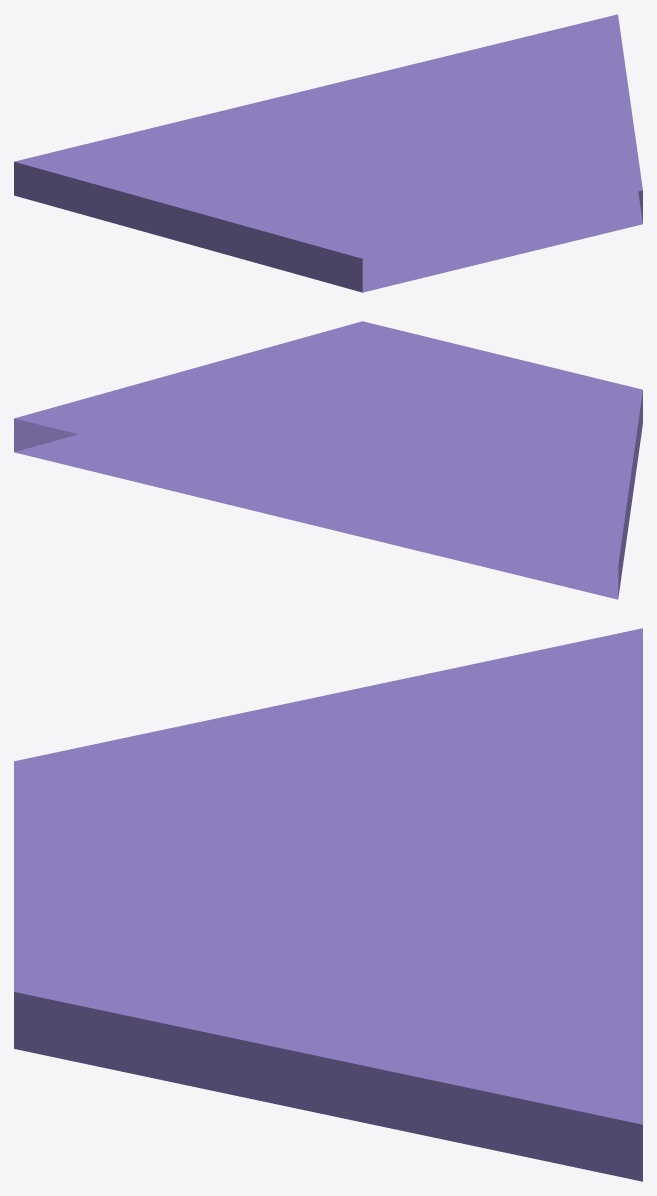
Rendered from BridgeExpandFill.fbx.
The picture shows the model from 3 angles, top to bottom: view 1: azimuth 30°, elevation 25°; view 2: azimuth 150°, elevation 25°; view 3: azimuth 270°, elevation 25°; orthographic projection. The views are drawn at different scales.
Parts seen in each view (by area): view 1: BridgeExpandFill; view 2: BridgeExpandFill; view 3: BridgeExpandFill.
Part boxes in pixels (x1,y1,x2,y2): BridgeExpandFill: (14, 14, 642, 292); BridgeExpandFill: (14, 321, 642, 599); BridgeExpandFill: (14, 628, 642, 1181).
Size of the model in its own units: 5604 by 300 by 3000.
